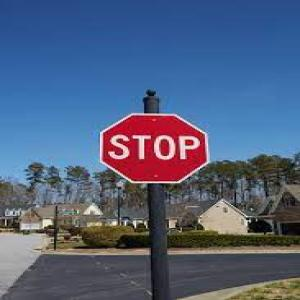STOP: (98, 112, 216, 185)
